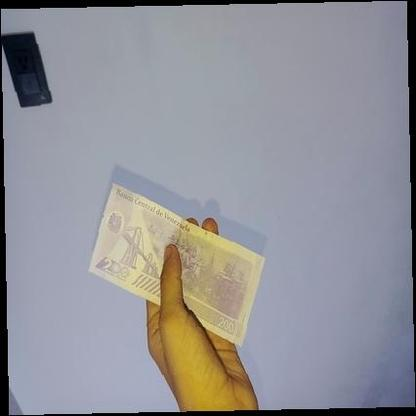two_hundred-back-vef: (86, 181, 266, 347)
